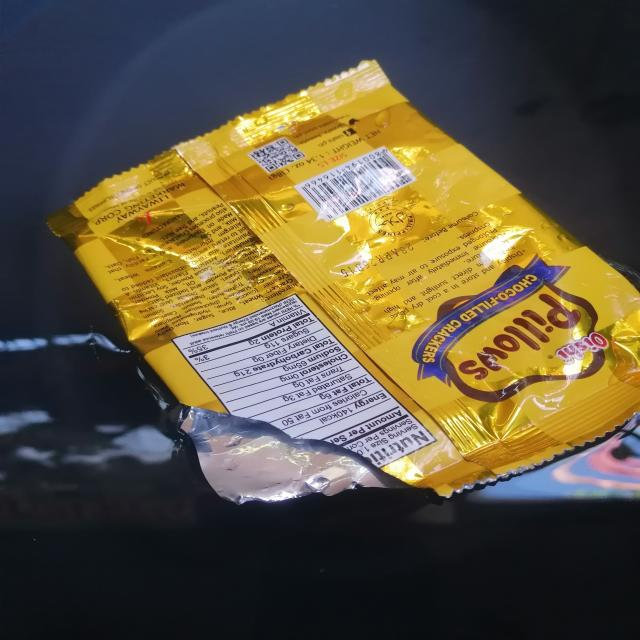Plastic Wrapper: (48, 61, 640, 499)
